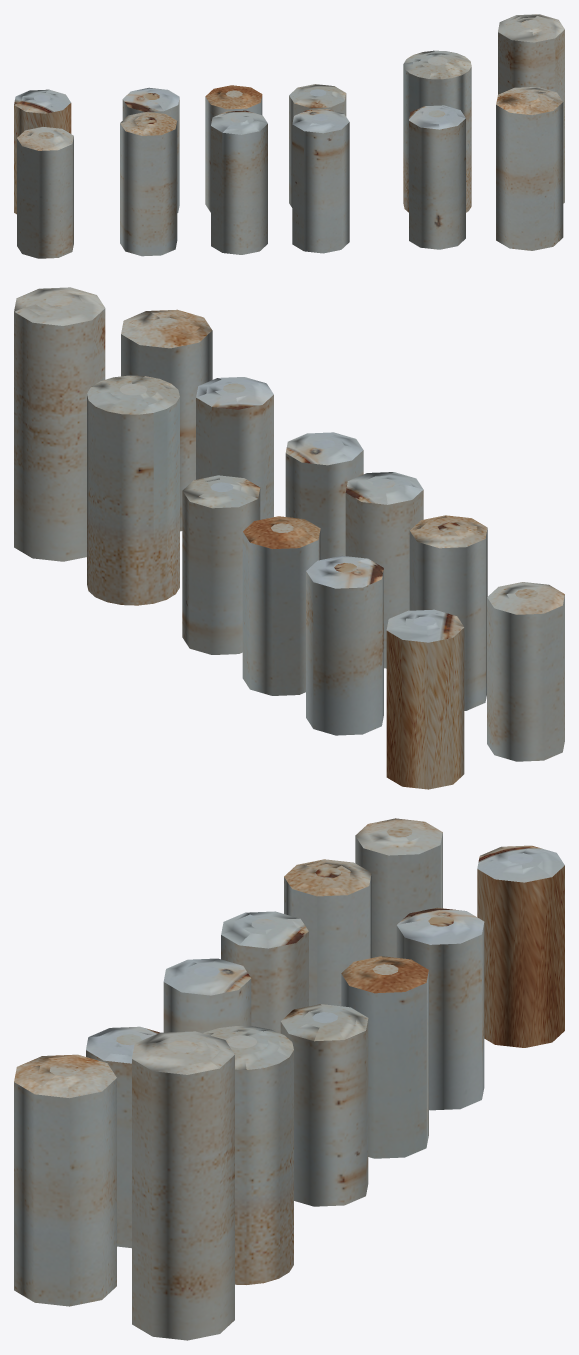
The model's file is youguan_01_04.fbx.
3 views of the same model, one above another, from view 1: azimuth 30°, elevation 25°; view 2: azimuth 150°, elevation 25°; view 3: azimuth 270°, elevation 25° (orthographic). The views are drawn at different scales.
Visible parts, largest first — view 1: Youguan_01_04; view 2: Youguan_01_04; view 3: Youguan_01_04.
Part boxes in pixels (x1,y1,x2,y2): Youguan_01_04: (14, 14, 564, 258); Youguan_01_04: (14, 287, 564, 789); Youguan_01_04: (14, 818, 564, 1340).
Size of the model in its own units: 3472 by 1253 by 2303.
